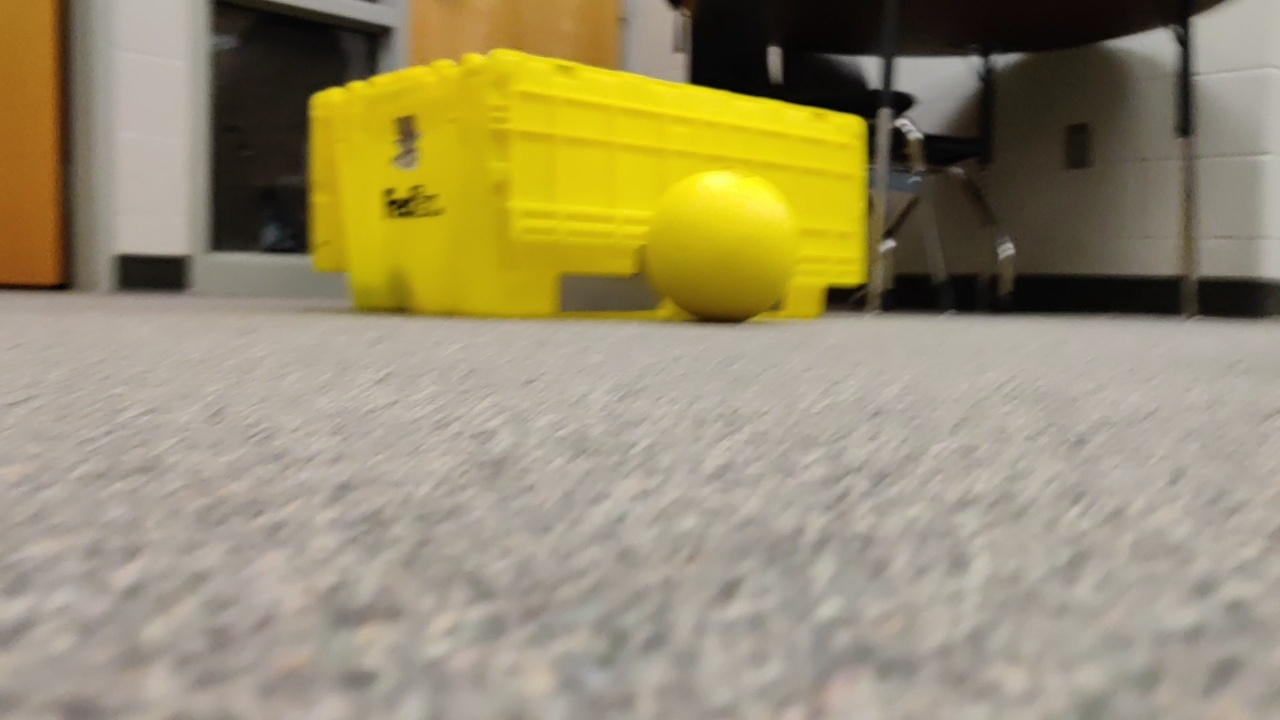Ball: (644, 171, 807, 320)
